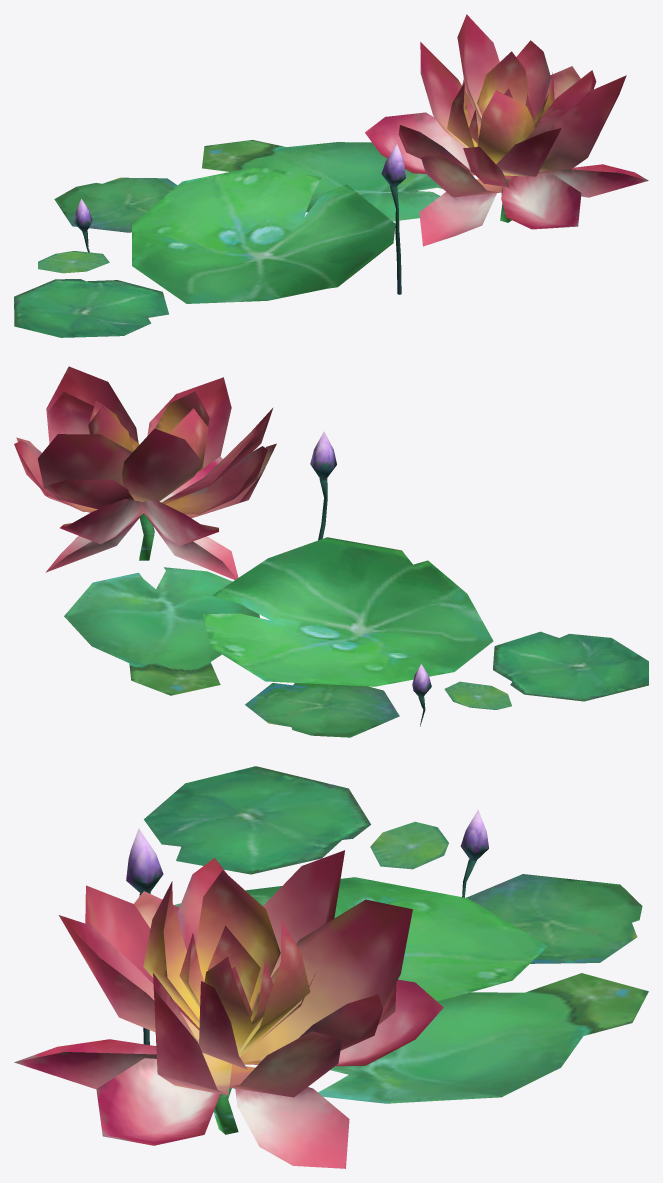
Rendered from h5_hehua_03.FBX.
3 views of the same model, one above another, from view 1: azimuth 30°, elevation 25°; view 2: azimuth 150°, elevation 25°; view 3: azimuth 270°, elevation 25° (orthographic). The views are drawn at different scales.
Visible parts, largest first — view 1: h5_hehua_03; view 2: h5_hehua_03; view 3: h5_hehua_03.
Boxes of the visible parts, x1=… form: h5_hehua_03: x1=14, y1=14, x2=648, y2=337; h5_hehua_03: x1=14, y1=366, x2=648, y2=737; h5_hehua_03: x1=14, y1=766, x2=648, y2=1168.
Size of the model in its own units: 6.97 by 2.08 by 4.32.
